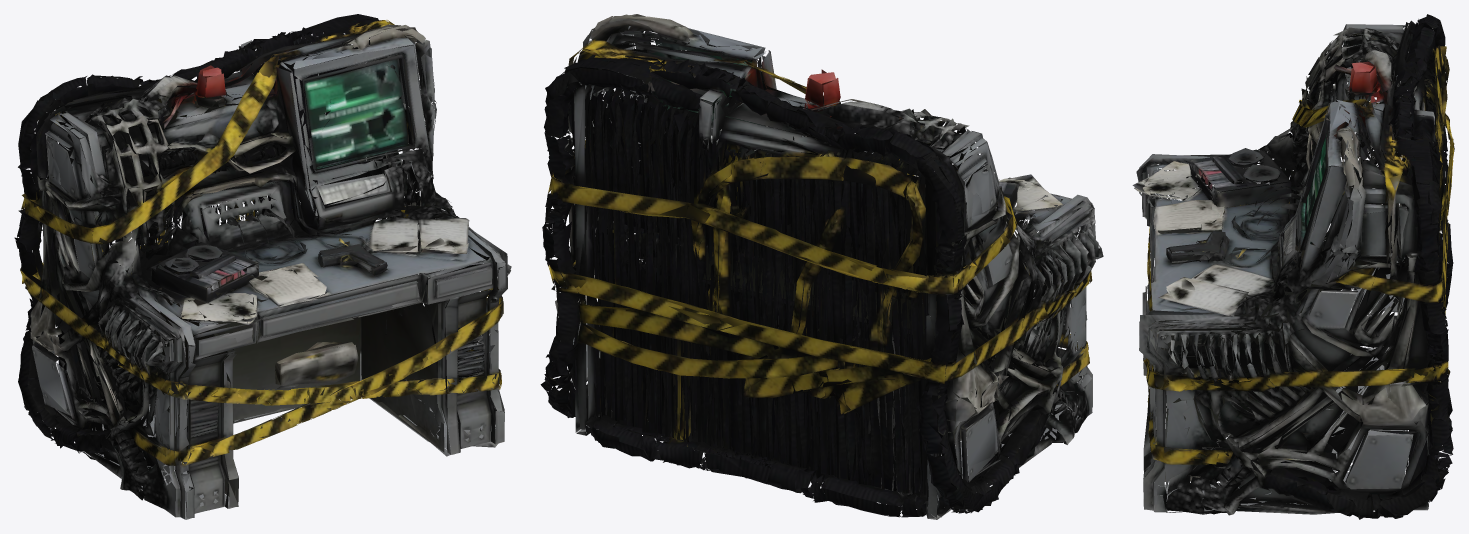
File: chen_sealed_confession_console.glb
The picture shows the model from 3 angles, left to right: view 1: azimuth 30°, elevation 25°; view 2: azimuth 150°, elevation 25°; view 3: azimuth 270°, elevation 25°; orthographic projection. The views are drawn at different scales.
Visible parts, largest first — view 1: node_0; view 2: node_0; view 3: node_0.
Part boxes in pixels (bbox=[...]): node_0: bbox=[14, 14, 511, 519]; node_0: bbox=[540, 14, 1103, 519]; node_0: bbox=[1132, 14, 1454, 519].
Bounding box in the file's own units: 0.8589 × 0.7738 × 0.6184.
Materials: 1 (1 with a texture image).
